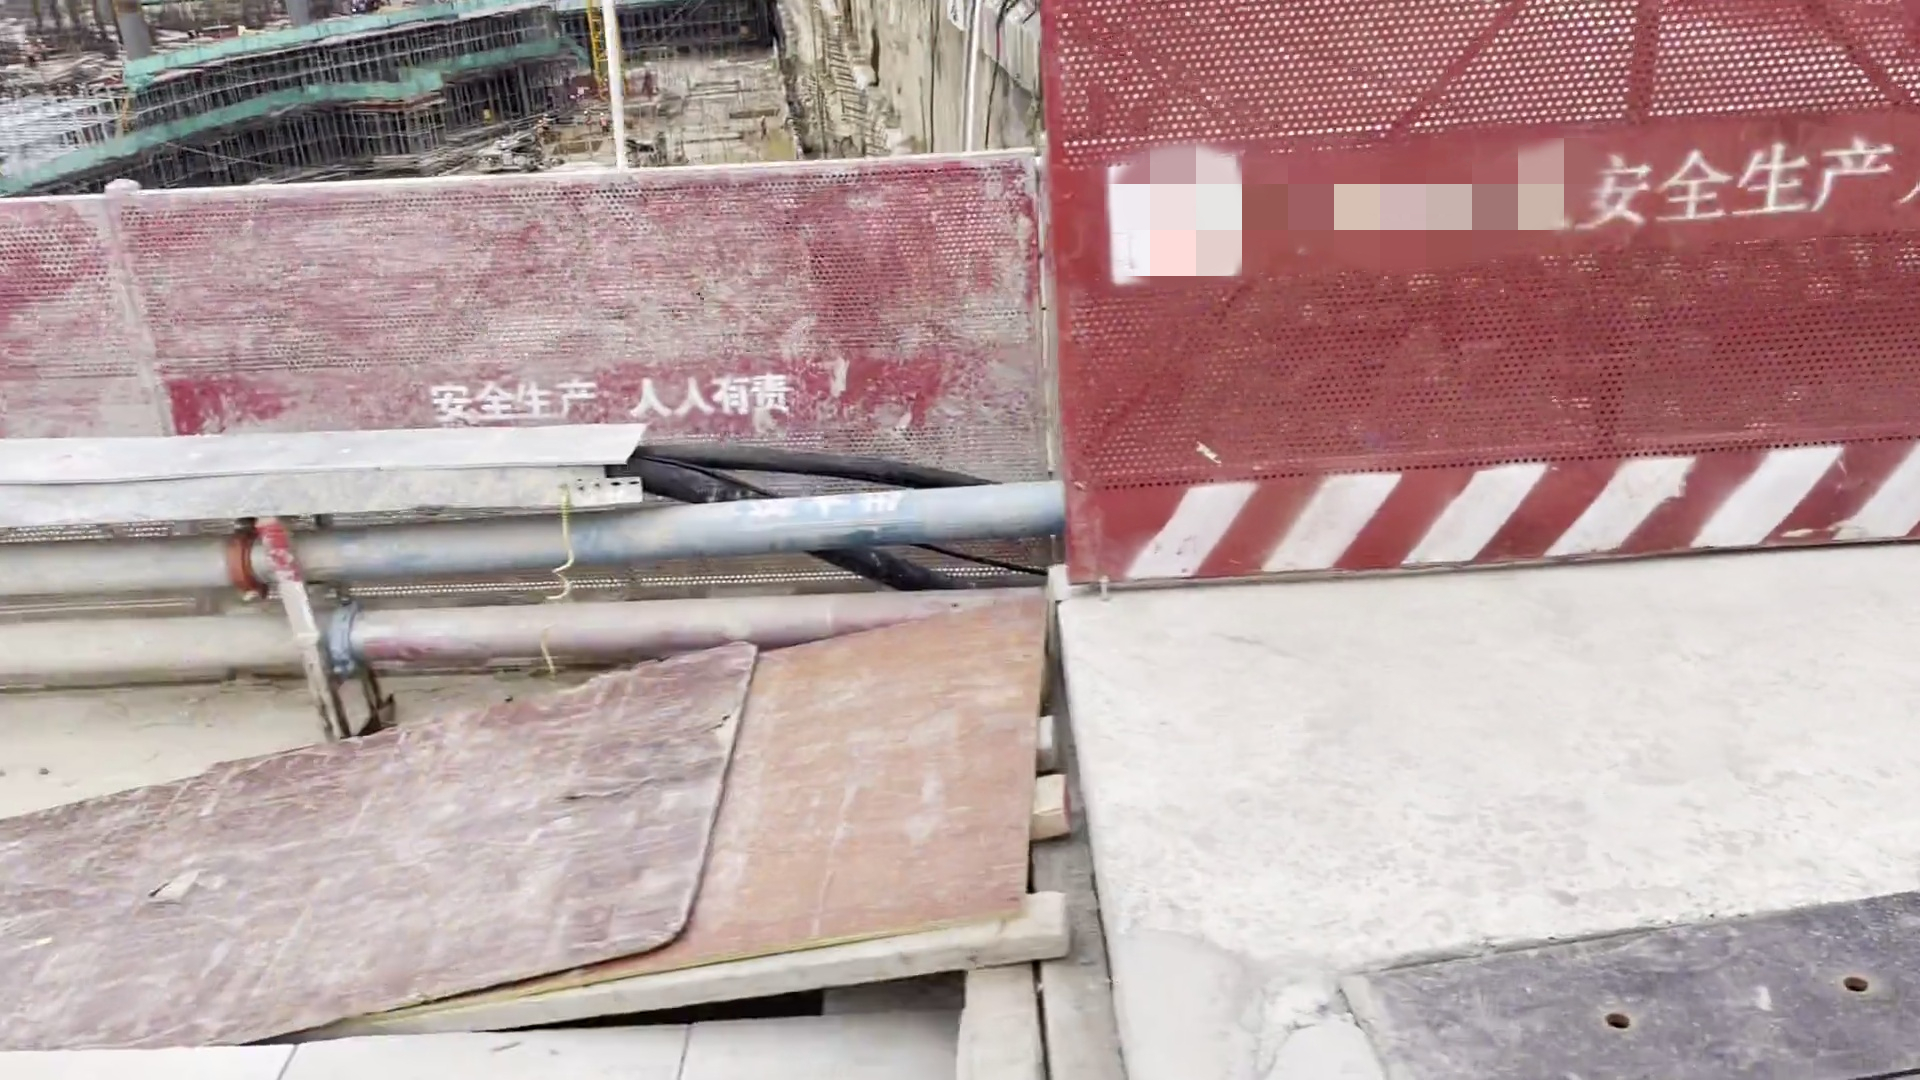board: (3, 595, 1096, 1050)
fence: (1025, 3, 1920, 593), (1, 146, 1120, 496)
